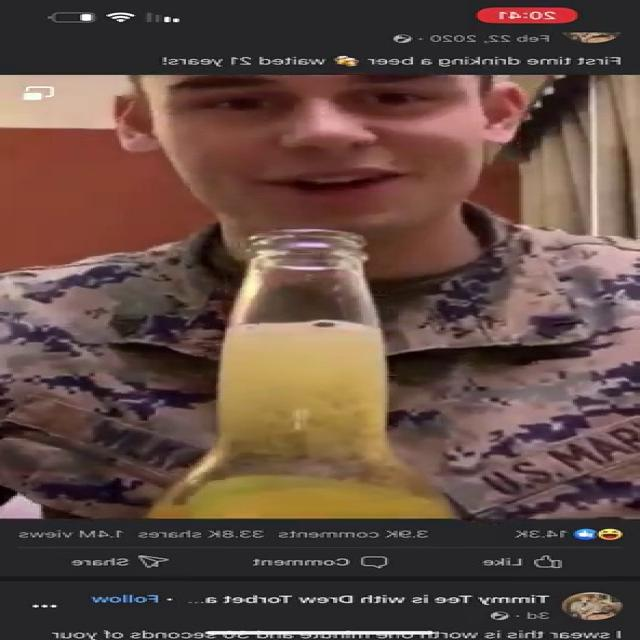Bottle: (146, 237, 453, 521)
Mouth: (240, 162, 411, 196)
